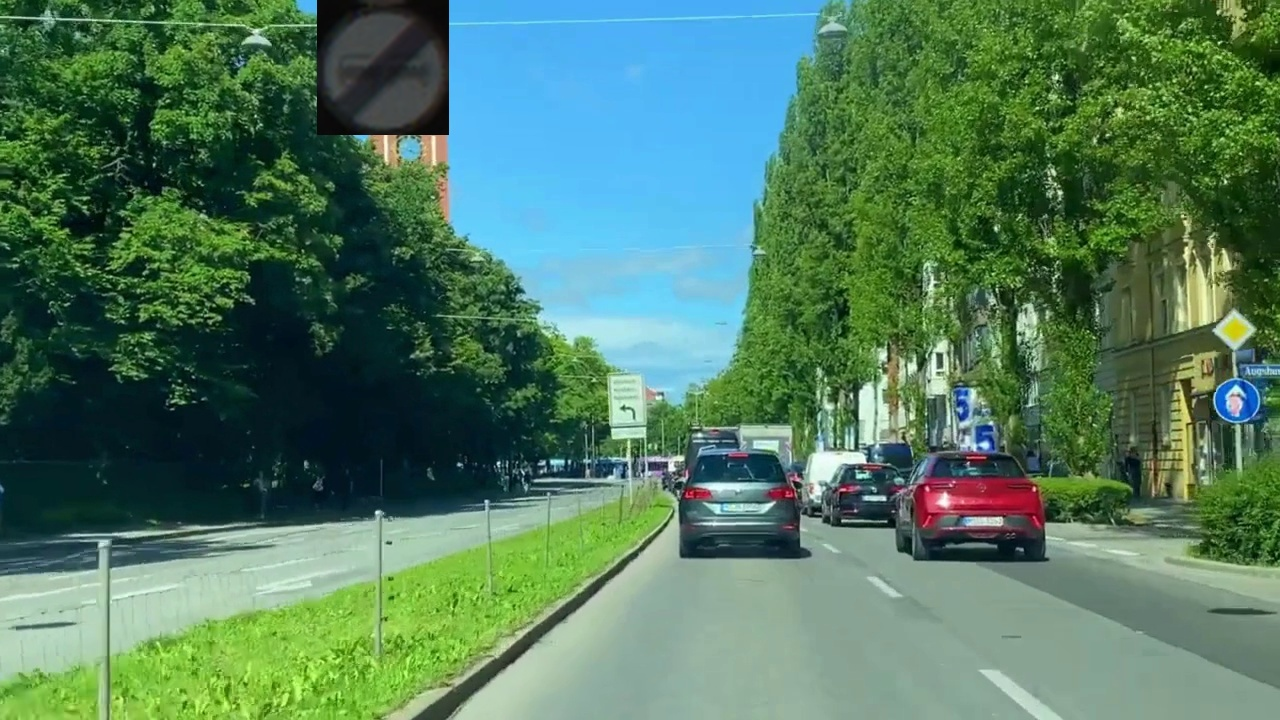End no pass: (317, 0, 449, 135)
